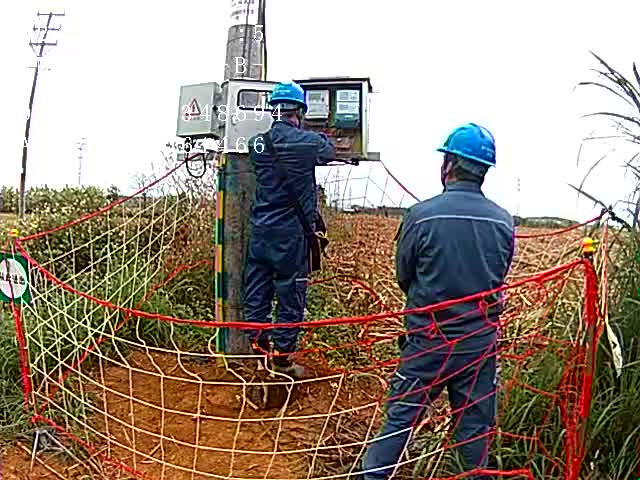halt: (438, 126, 500, 187), (271, 86, 311, 125)
